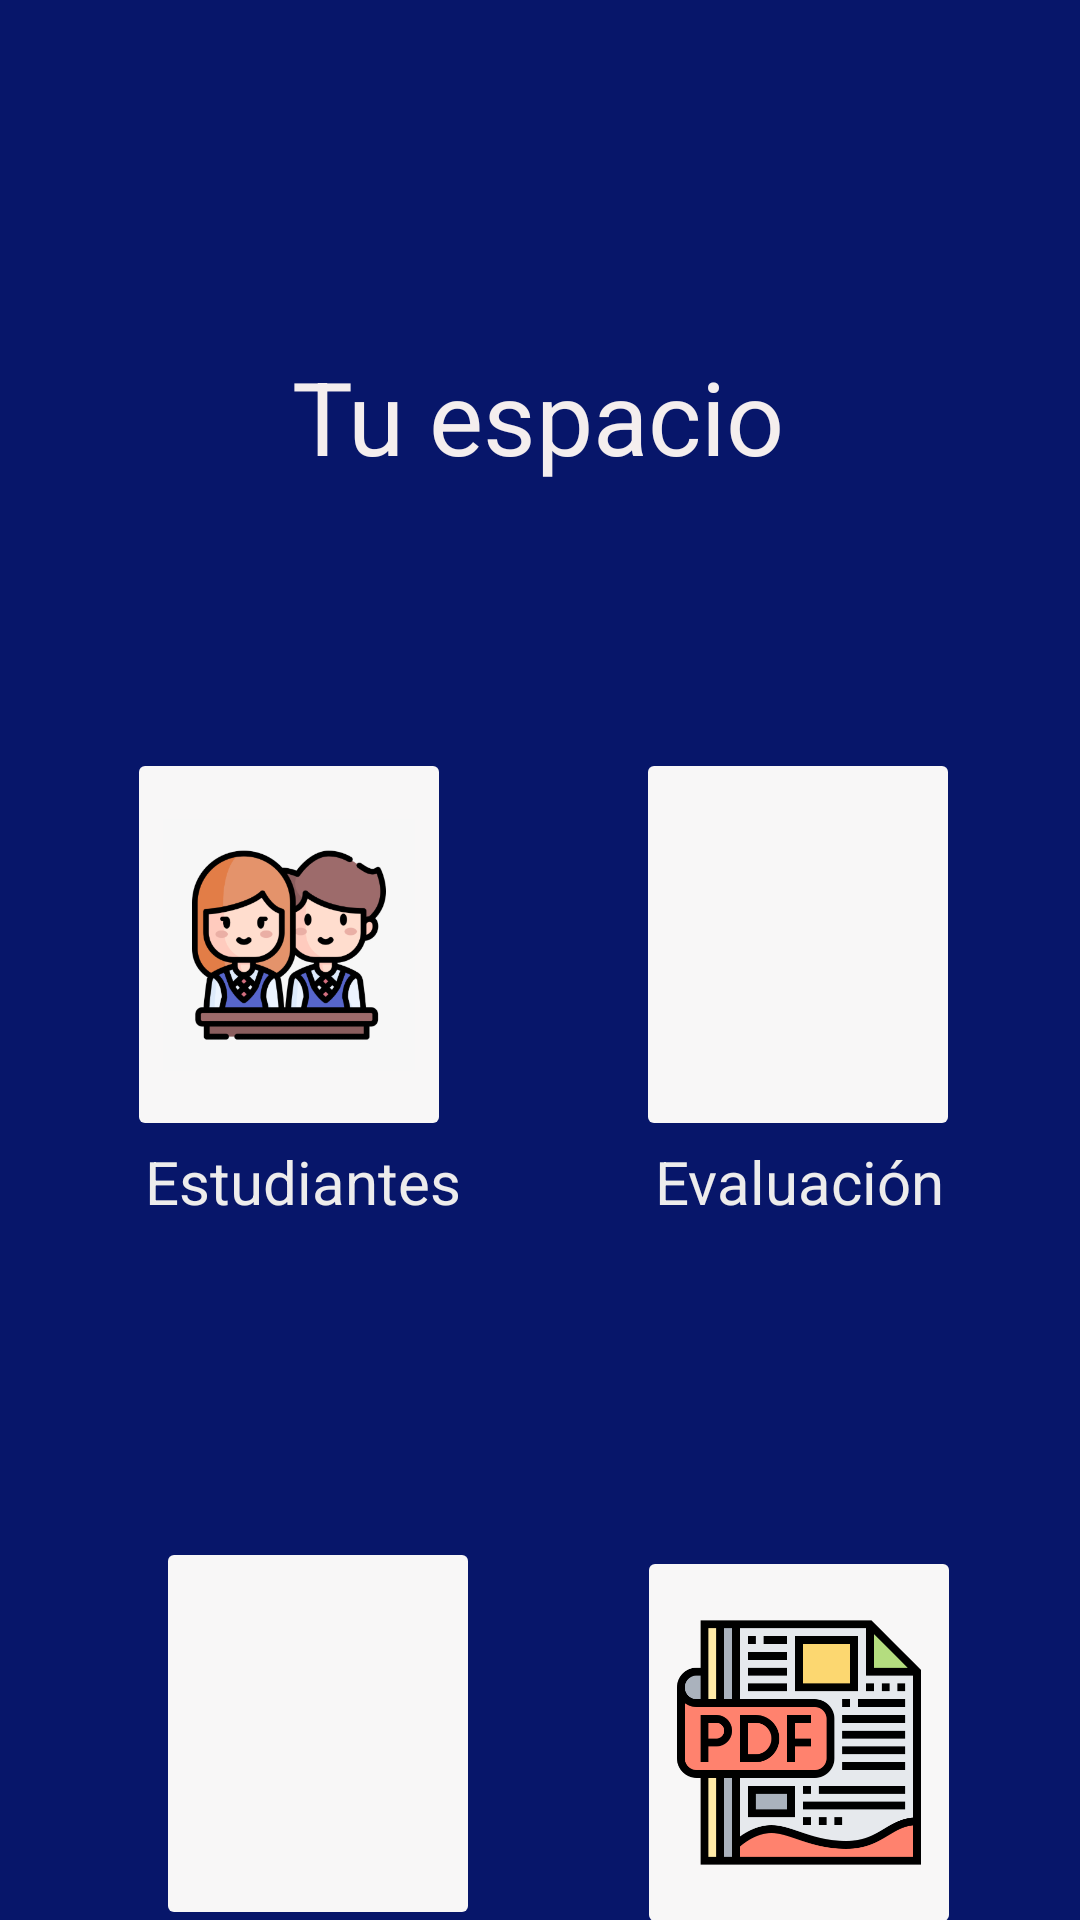

Point at icon controls on the screen. Image size 1080 x 1920, points as [x,y].
botoninformes: [799,1742]
